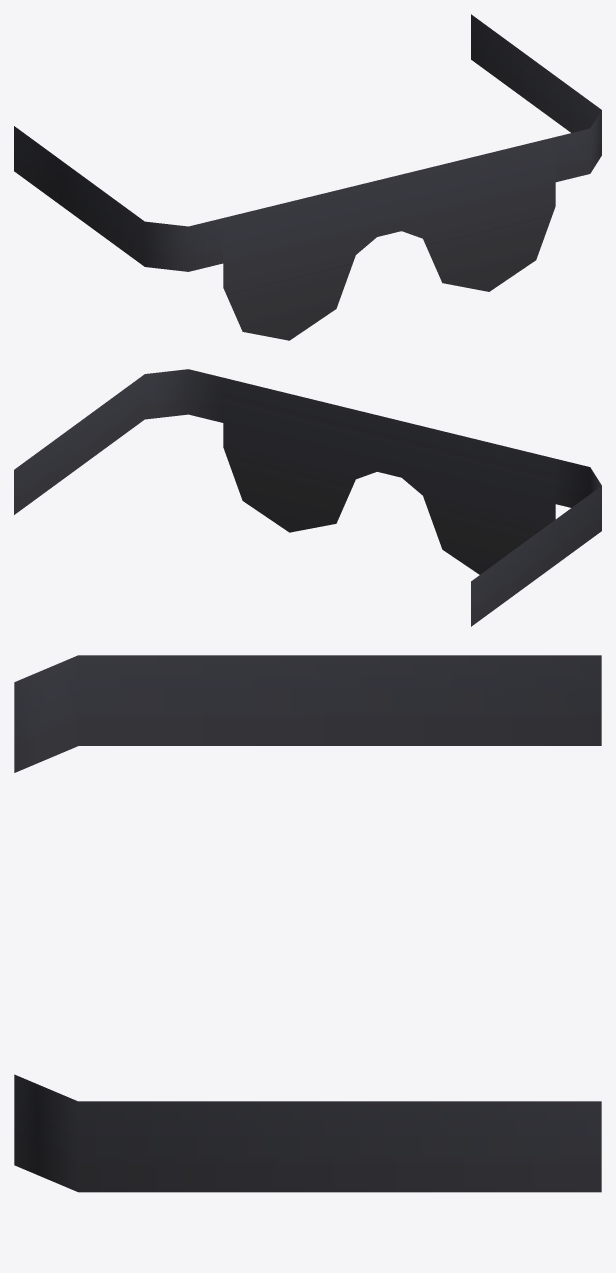
Rendered from aid-sunglasses.glb.
The picture shows the model from 3 angles, top to bottom: view 1: azimuth 30°, elevation 25°; view 2: azimuth 150°, elevation 25°; view 3: azimuth 270°, elevation 25°; orthographic projection. The views are drawn at different scales.
Parts seen in each view (by area): view 1: aid-sunglasses; view 2: aid-sunglasses; view 3: aid-sunglasses.
Part boxes in pixels (x1=…): aid-sunglasses: x1=14, y1=14, x2=601, y2=340; aid-sunglasses: x1=14, y1=369, x2=601, y2=626; aid-sunglasses: x1=14, y1=655, x2=601, y2=1192.
Bounding box in the file's own units: 0.33 × 0.0958 × 0.1836.
Materials: 1 (1 with a texture image).
